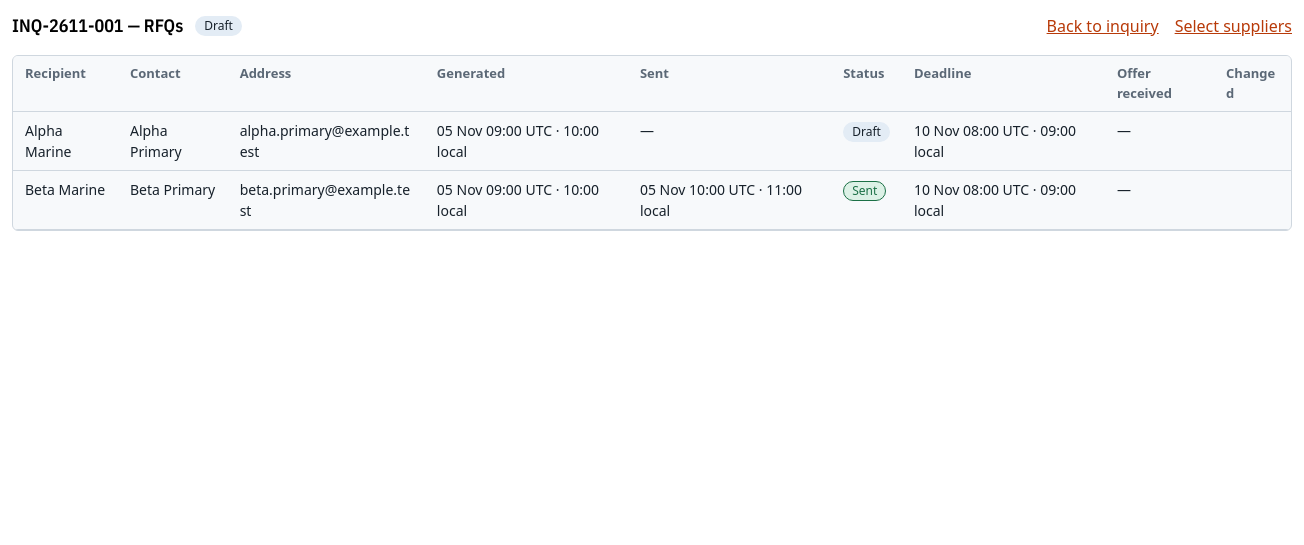
Test: RfqLog › [B3-R13] the in-flight guard drops a second action while one is running
This screenshot has width=1304, height=545.
Click the cell "Alpha Marine" at (65,141), box [13, 112, 118, 170]
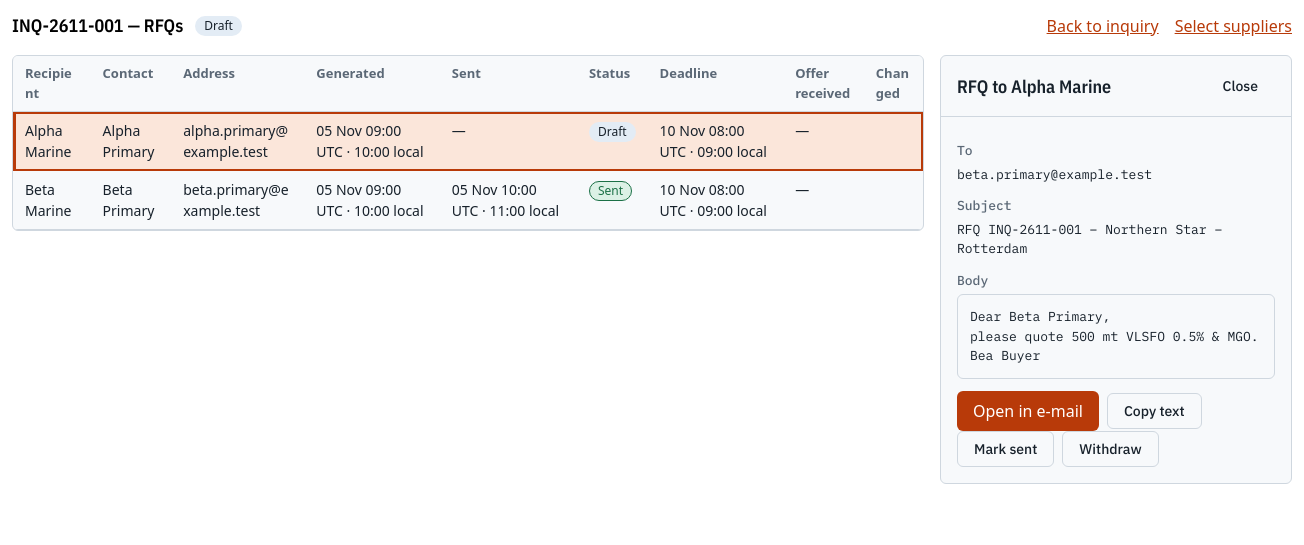
Click the button "Withdraw" at (1110,448), box [1062, 430, 1159, 466]
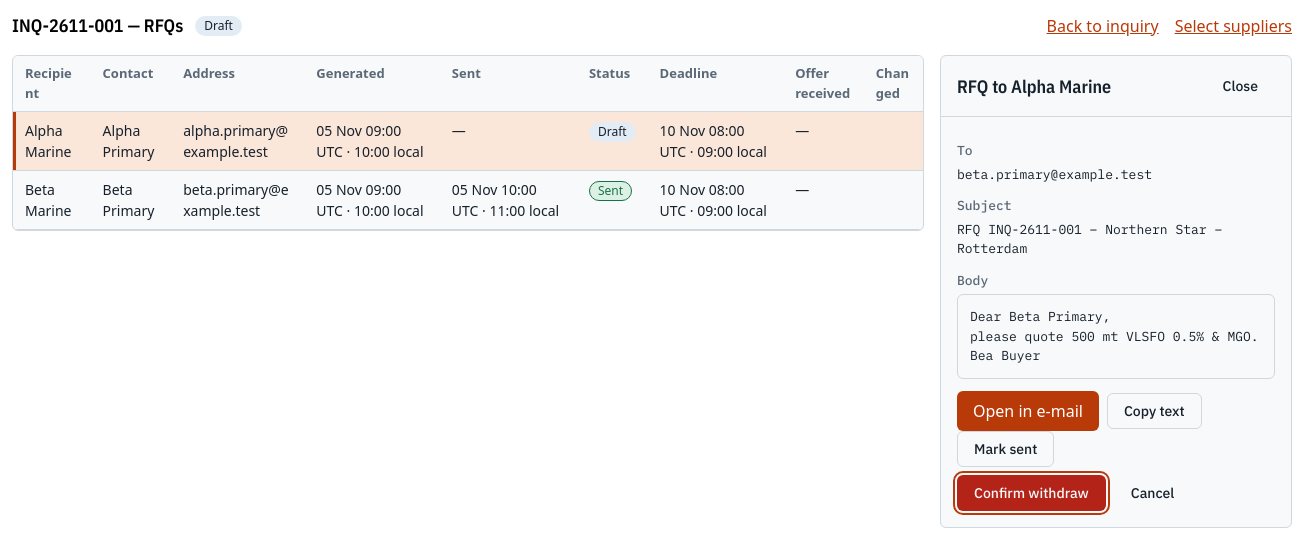
Click the button "Confirm withdraw" at (1031,492), box [957, 474, 1106, 510]
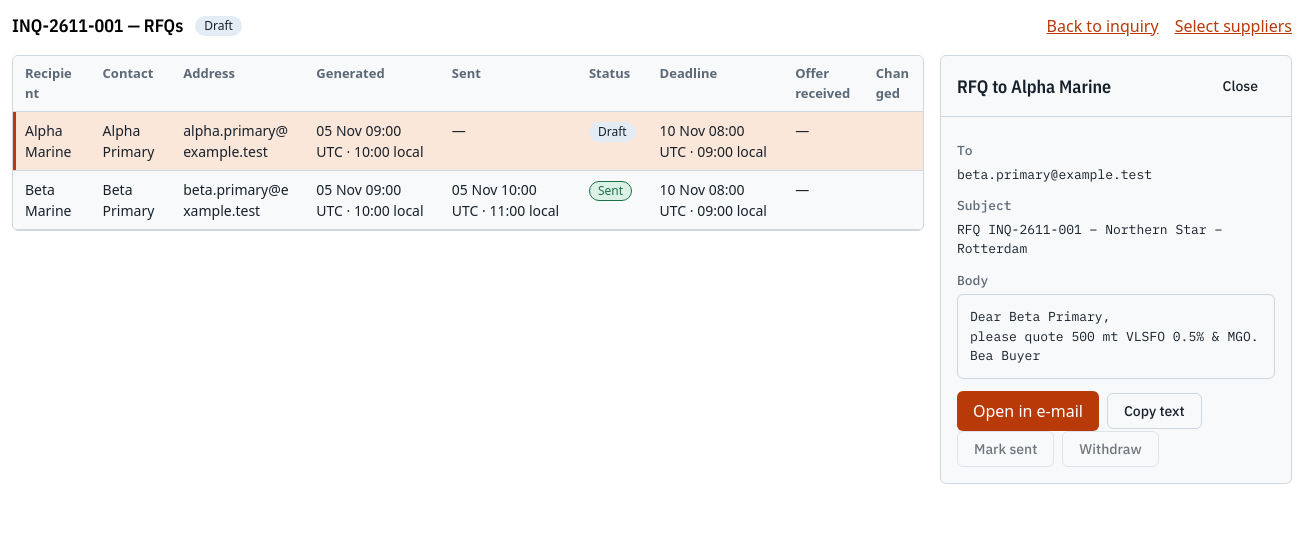
Now the button "Mark sent" is disabled, box [957, 430, 1054, 466]
